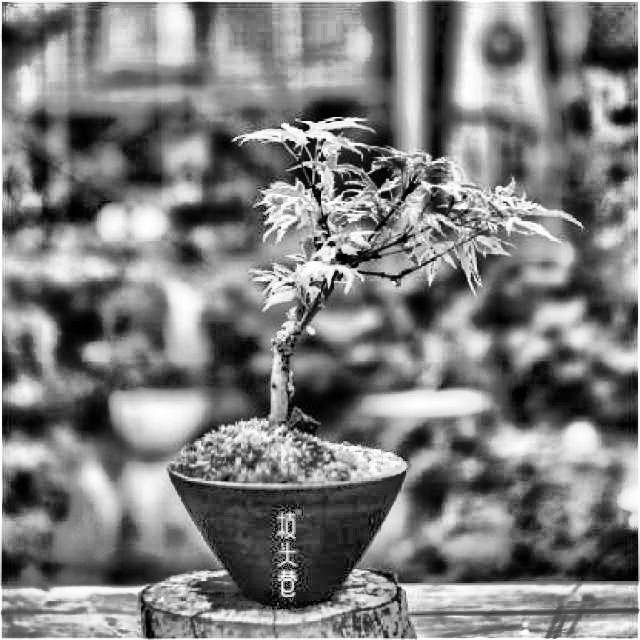plants: (173, 116, 419, 584)
